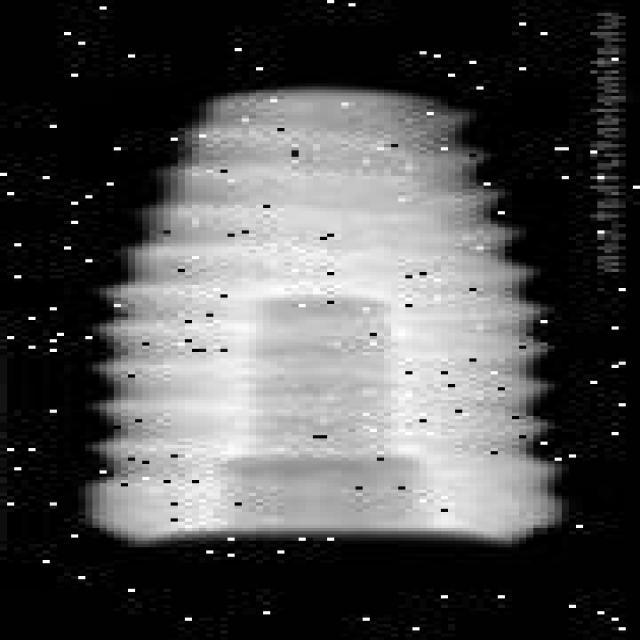Osstem Implant: (78, 86, 569, 544)
